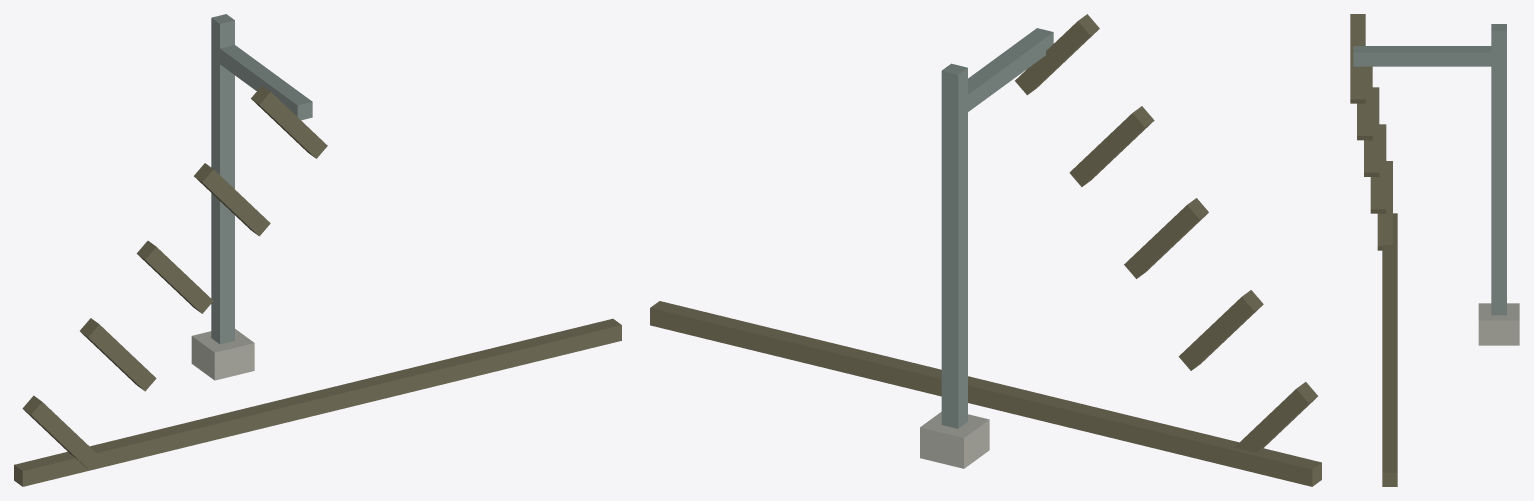
File: SM_CatenariaCaida_v0_Colgando_LOD1.fbx
The picture shows the model from 3 angles, left to right: view 1: azimuth 30°, elevation 25°; view 2: azimuth 150°, elevation 25°; view 3: azimuth 270°, elevation 25°; orthographic projection. The views are drawn at different scales.
Parts seen in each view (by area): view 1: SM_aqui_paso_algo_v10_LOD1; view 2: SM_aqui_paso_algo_v10_LOD1; view 3: SM_aqui_paso_algo_v10_LOD1.
Part boxes in pixels (x1,y1,x2,y2): SM_aqui_paso_algo_v10_LOD1: [14, 14, 621, 486]; SM_aqui_paso_algo_v10_LOD1: [650, 14, 1321, 486]; SM_aqui_paso_algo_v10_LOD1: [1350, 14, 1519, 486].
Bounding box in the file's own units: 13.5 × 7.64 × 3.72.
